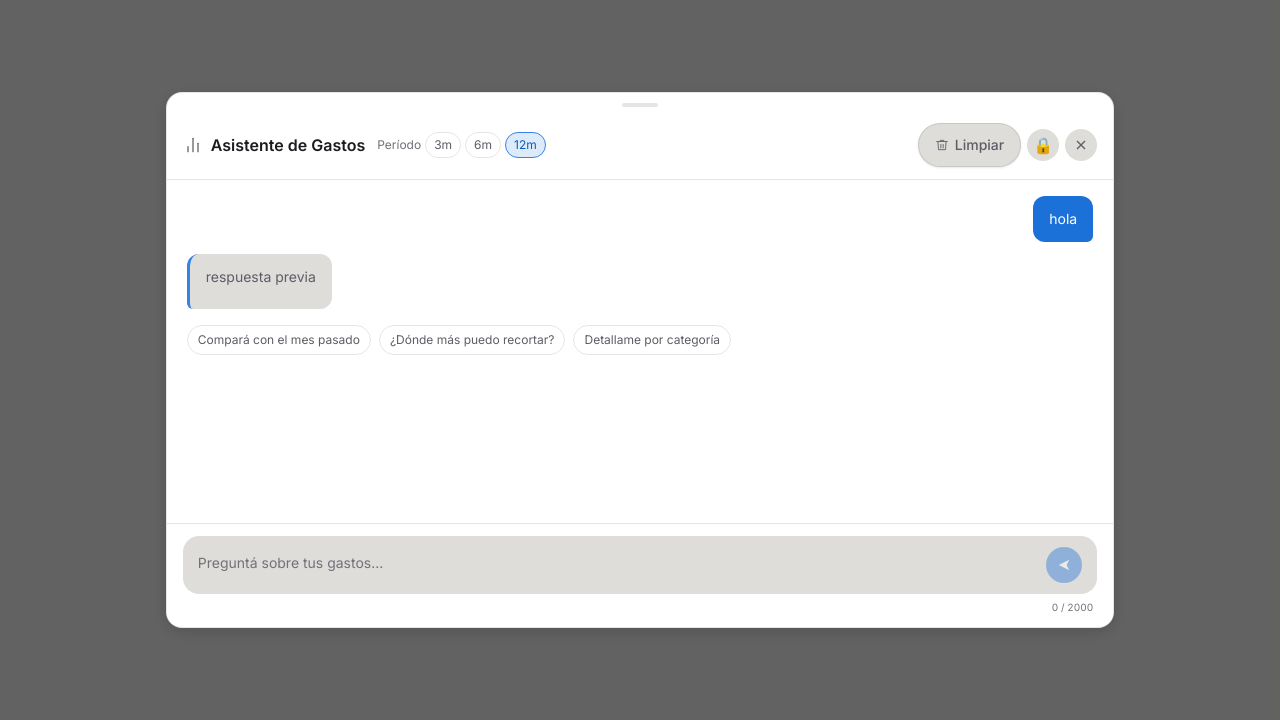
Scenario: AssistantShell › streams into the last bubble without disturbing earlier messages
Expected: the text "respuesta previa" is shown, [206,266,316,289]
Type "¿cuánto gasté?" into the text box.
click(618, 564); type("¿cuánto gasté?")  # box [198,550,1038,577]
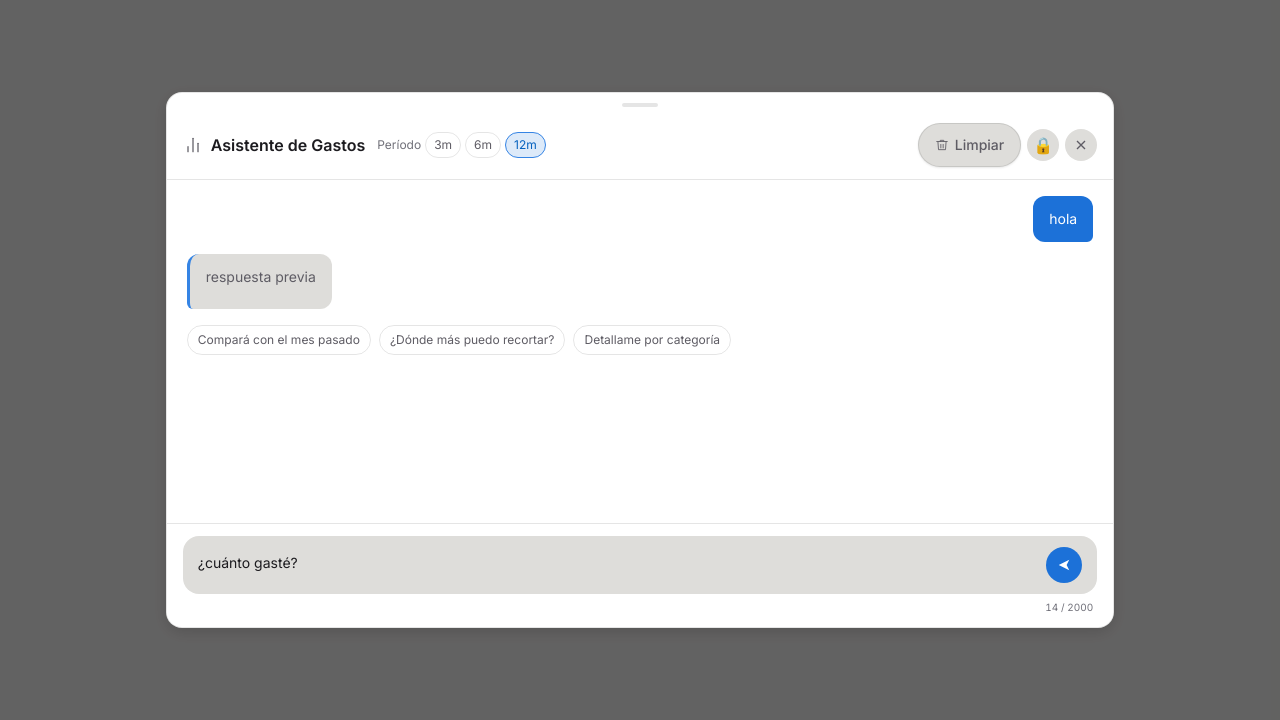
Submit the form, box [183,536,1097,594]
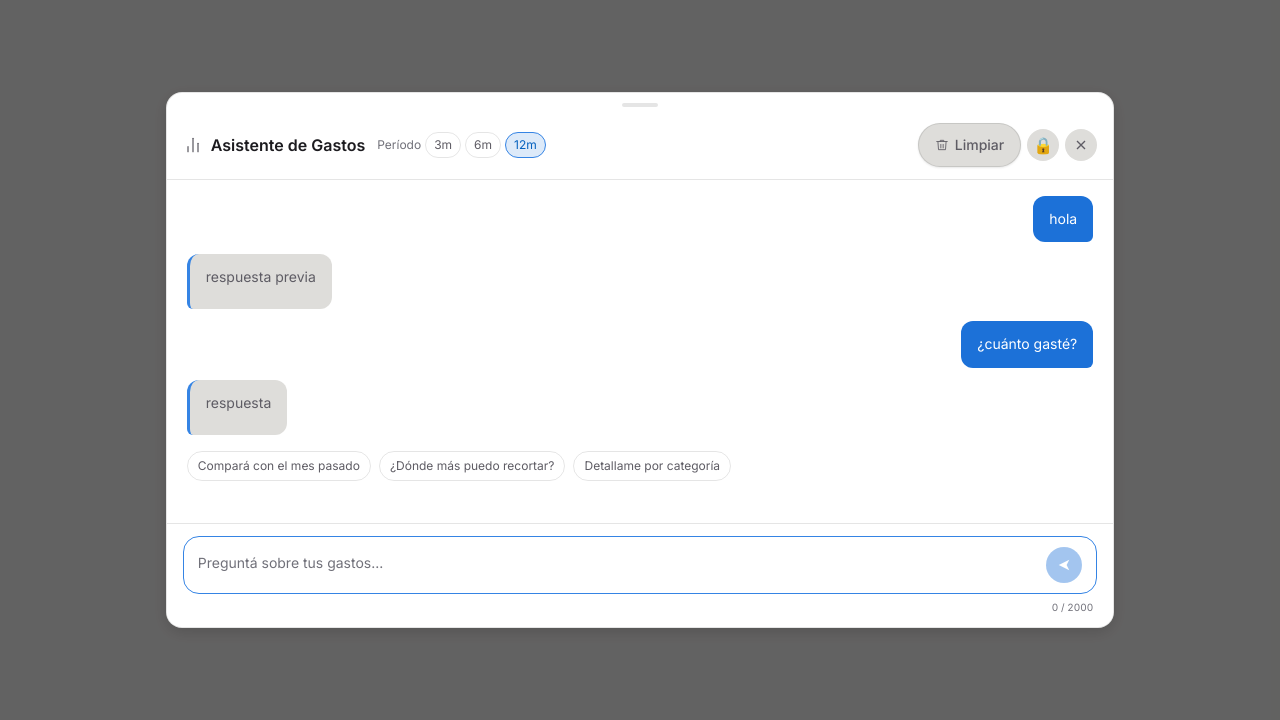
Expected: the text "respuesta previa" is shown, [206,266,316,289]
Expected: the text "respuesta" is shown, [206,392,271,415]
